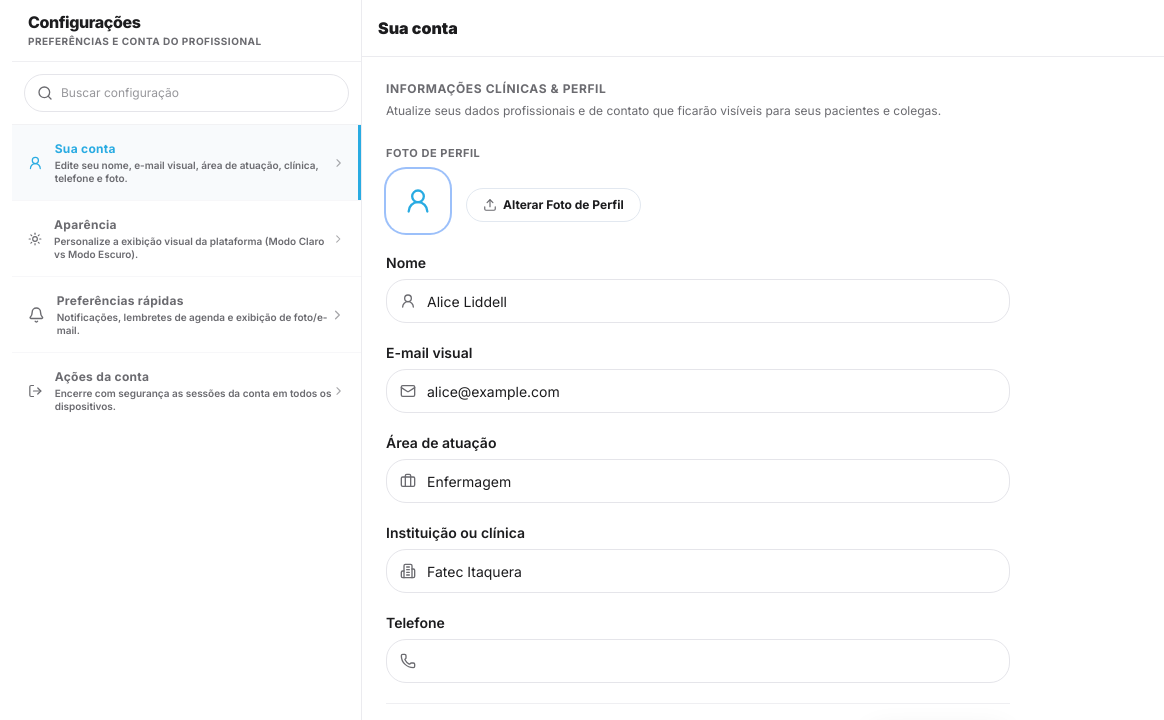
Test: SettingsPage › atualiza preferências rápidas de forma otimista
Click the button "Preferências rápidas" at {"x": 186, "y": 314}, box 12,276 -> 361,352
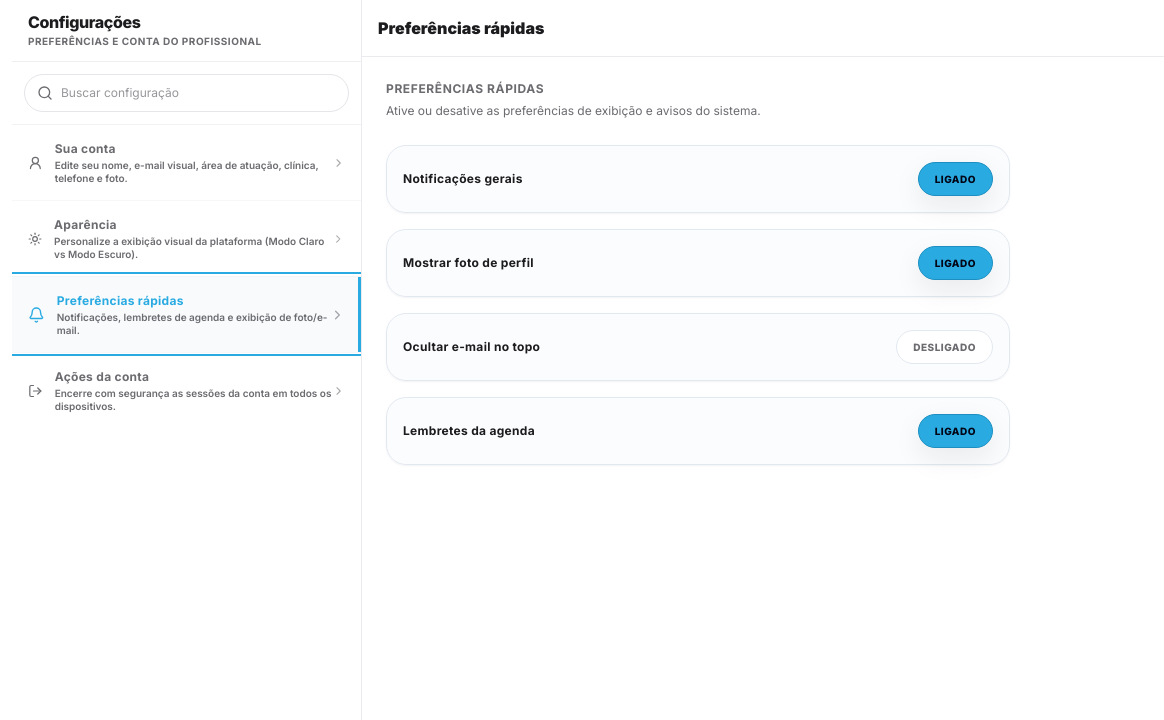
Now the text "Notificações gerais" is shown, box 403,170 -> 523,186
Now the button "LIGADO" in the row of "Notificações gerais" is shown
Click the button "LIGADO" in the row of "Notificações gerais" at {"x": 955, "y": 178}, box 918,162 -> 993,196
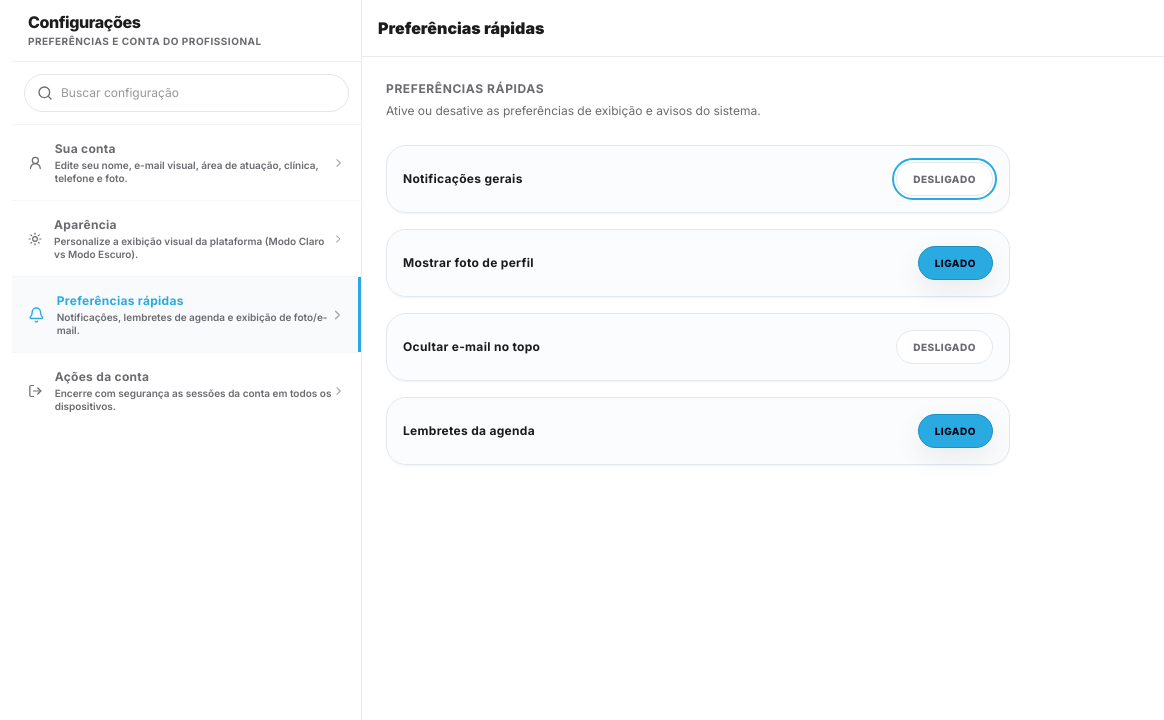
Now the button "DESLIGADO" in the row of "Notificações gerais" is shown, box 896,162 -> 993,196
